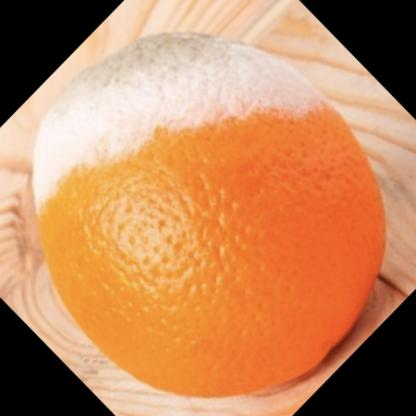rotten: (31, 33, 387, 398)
